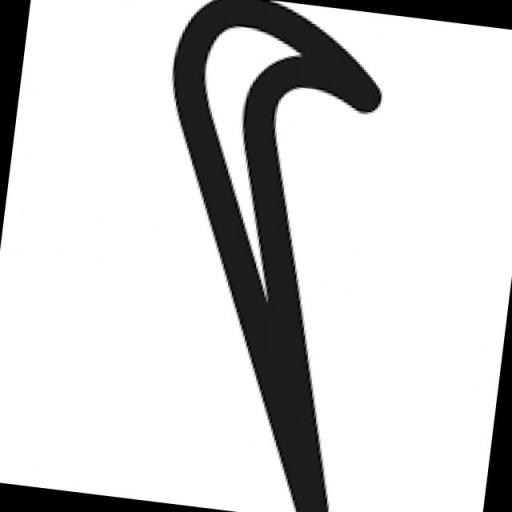Nike: (110, 0, 397, 512)
